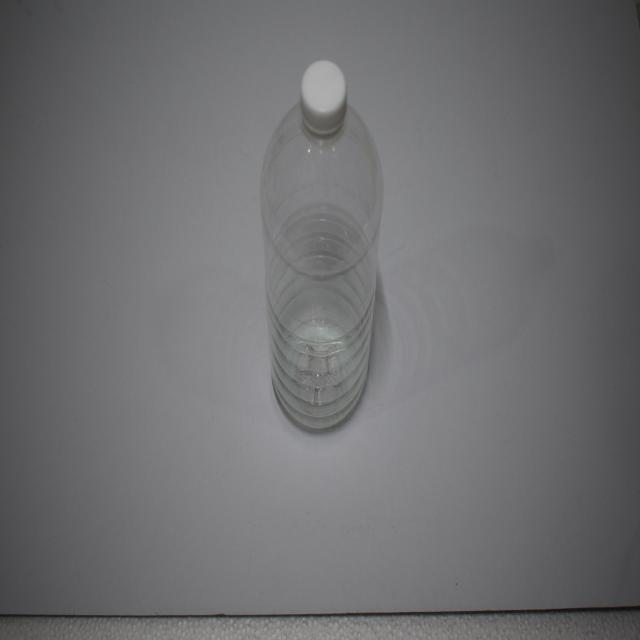bottle: (256, 50, 401, 431)
